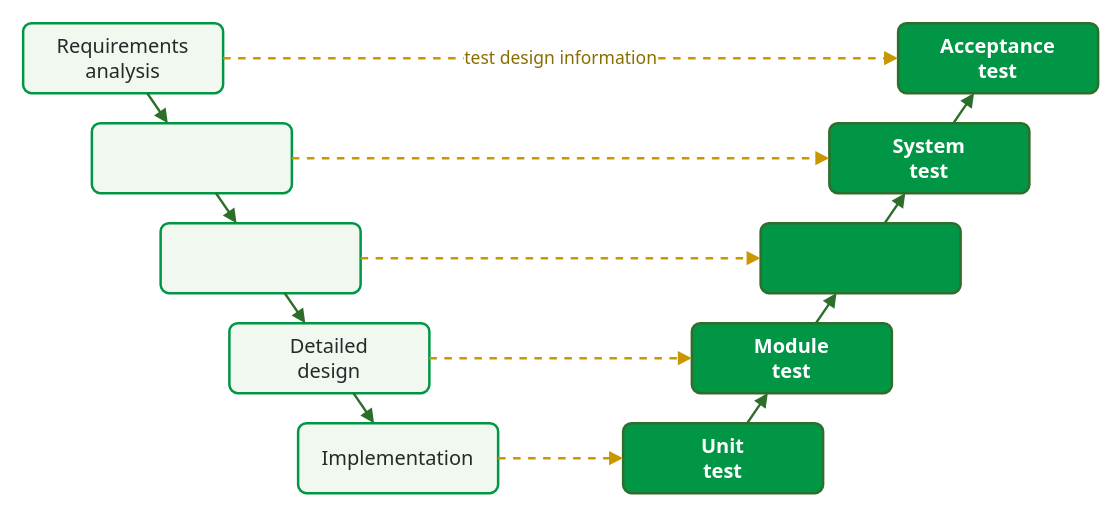
The diagram is 1120 pixels wide and 515 high, and some of its shapes have lost their labels. The box of each missing label's shape, as (x1, y1, x2, y2) in pixels:
Architectural design: (90, 121, 292, 194)
Integration test: (759, 221, 961, 294)
Subsystem design: (159, 221, 361, 294)
